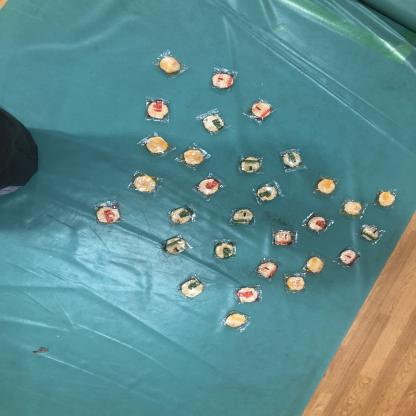green_setoshio: (196, 108, 230, 136), (164, 201, 199, 228), (158, 233, 193, 257), (178, 274, 210, 300), (354, 221, 388, 245), (276, 148, 311, 171), (253, 180, 284, 204), (227, 205, 258, 228), (212, 237, 241, 260), (237, 154, 264, 176)
red_setoshio: (242, 96, 279, 125), (91, 199, 124, 226), (193, 174, 227, 200), (142, 96, 173, 122), (208, 66, 240, 91), (304, 212, 335, 234), (336, 247, 365, 270), (234, 284, 264, 306), (269, 228, 301, 248), (255, 256, 280, 281)
yellow_setoshio: (124, 169, 164, 197), (152, 51, 188, 79), (140, 133, 173, 159), (178, 144, 212, 168), (338, 196, 367, 219), (312, 176, 342, 198), (374, 188, 402, 210), (221, 311, 250, 332), (304, 252, 328, 275), (284, 273, 308, 293)
